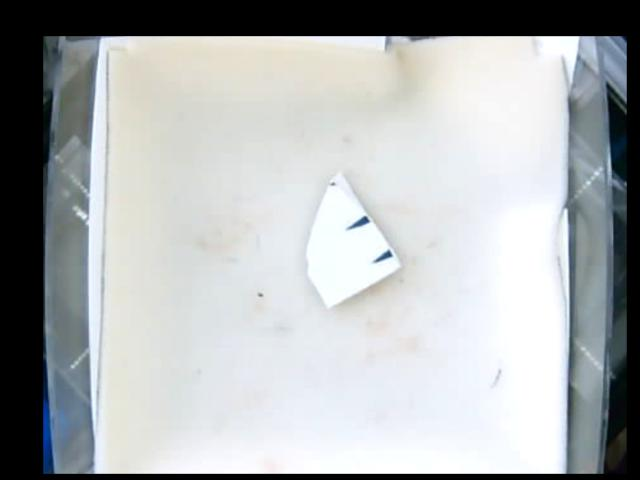China: (304, 172, 401, 311)
